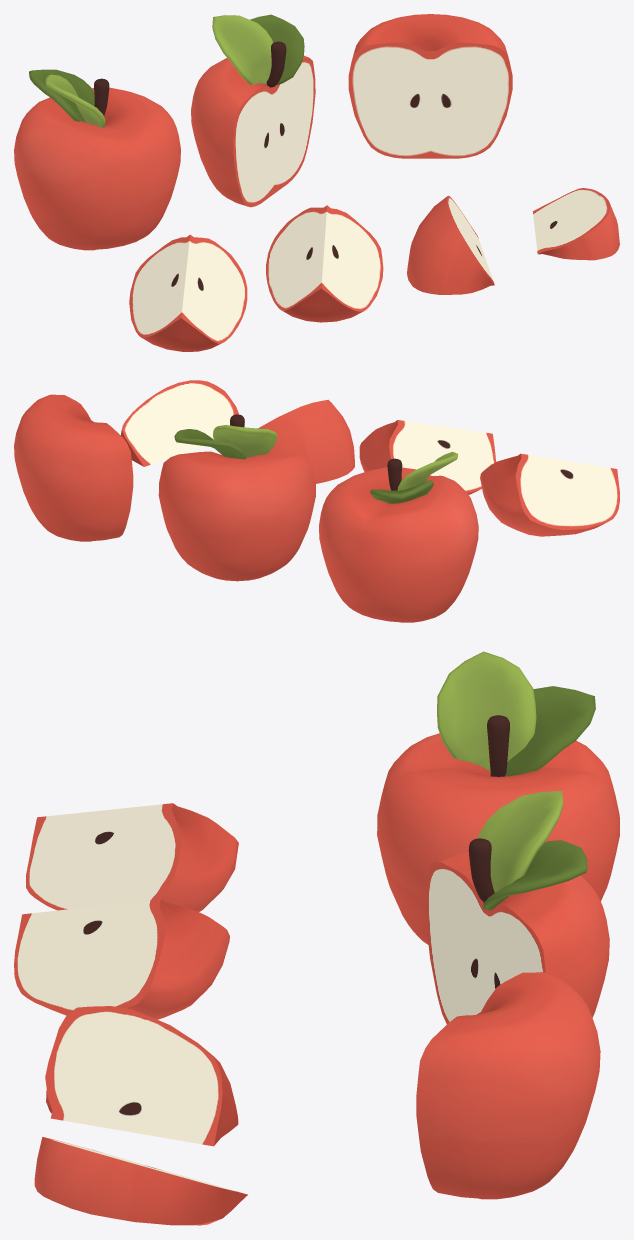
Rendered from cute_apple.glb.
The picture shows the model from 3 angles, top to bottom: view 1: azimuth 30°, elevation 25°; view 2: azimuth 150°, elevation 25°; view 3: azimuth 270°, elevation 25°; orthographic projection. The views are drawn at different scales.
Visible parts, largest first — view 1: apple_whole, apple_half_2, apple_half_1, apple_quarter_2, apple_quarter_1, apple_quarter_1_cut, apple_slice; view 2: apple_whole, apple_half_1, apple_half_2, apple_quarter_2, apple_slice, apple_quarter_1, apple_quarter_1_cut; view 3: apple_whole, apple_half_2, apple_half_1, apple_quarter_1, apple_quarter_1_cut, apple_quarter_2, apple_slice.
Boxes of the visible parts, box(x1,y1,x2,y2) form: apple_whole: box(14, 69, 180, 250); apple_half_2: box(348, 14, 512, 158); apple_half_1: box(191, 14, 315, 207); apple_quarter_2: box(129, 234, 247, 351); apple_quarter_1: box(266, 205, 383, 322); apple_quarter_1_cut: box(407, 195, 494, 294); apple_slice: box(532, 188, 619, 260); apple_whole: box(319, 451, 478, 622); apple_half_1: box(158, 414, 315, 581); apple_half_2: box(14, 394, 133, 541); apple_quarter_2: box(480, 453, 619, 536); apple_slice: box(120, 380, 238, 466); apple_quarter_1: box(359, 420, 496, 494); apple_quarter_1_cut: box(258, 399, 354, 483); apple_whole: box(377, 651, 619, 944); apple_half_2: box(416, 972, 600, 1199); apple_half_1: box(425, 791, 609, 1023); apple_quarter_1: box(14, 899, 229, 1019); apple_quarter_1_cut: box(45, 1006, 238, 1146); apple_quarter_2: box(26, 803, 238, 911); apple_slice: box(34, 1137, 247, 1225).
Bounding box in the file's own units: 0.0736 × 0.0247 × 0.0536.
2 materials, 2 textured.
